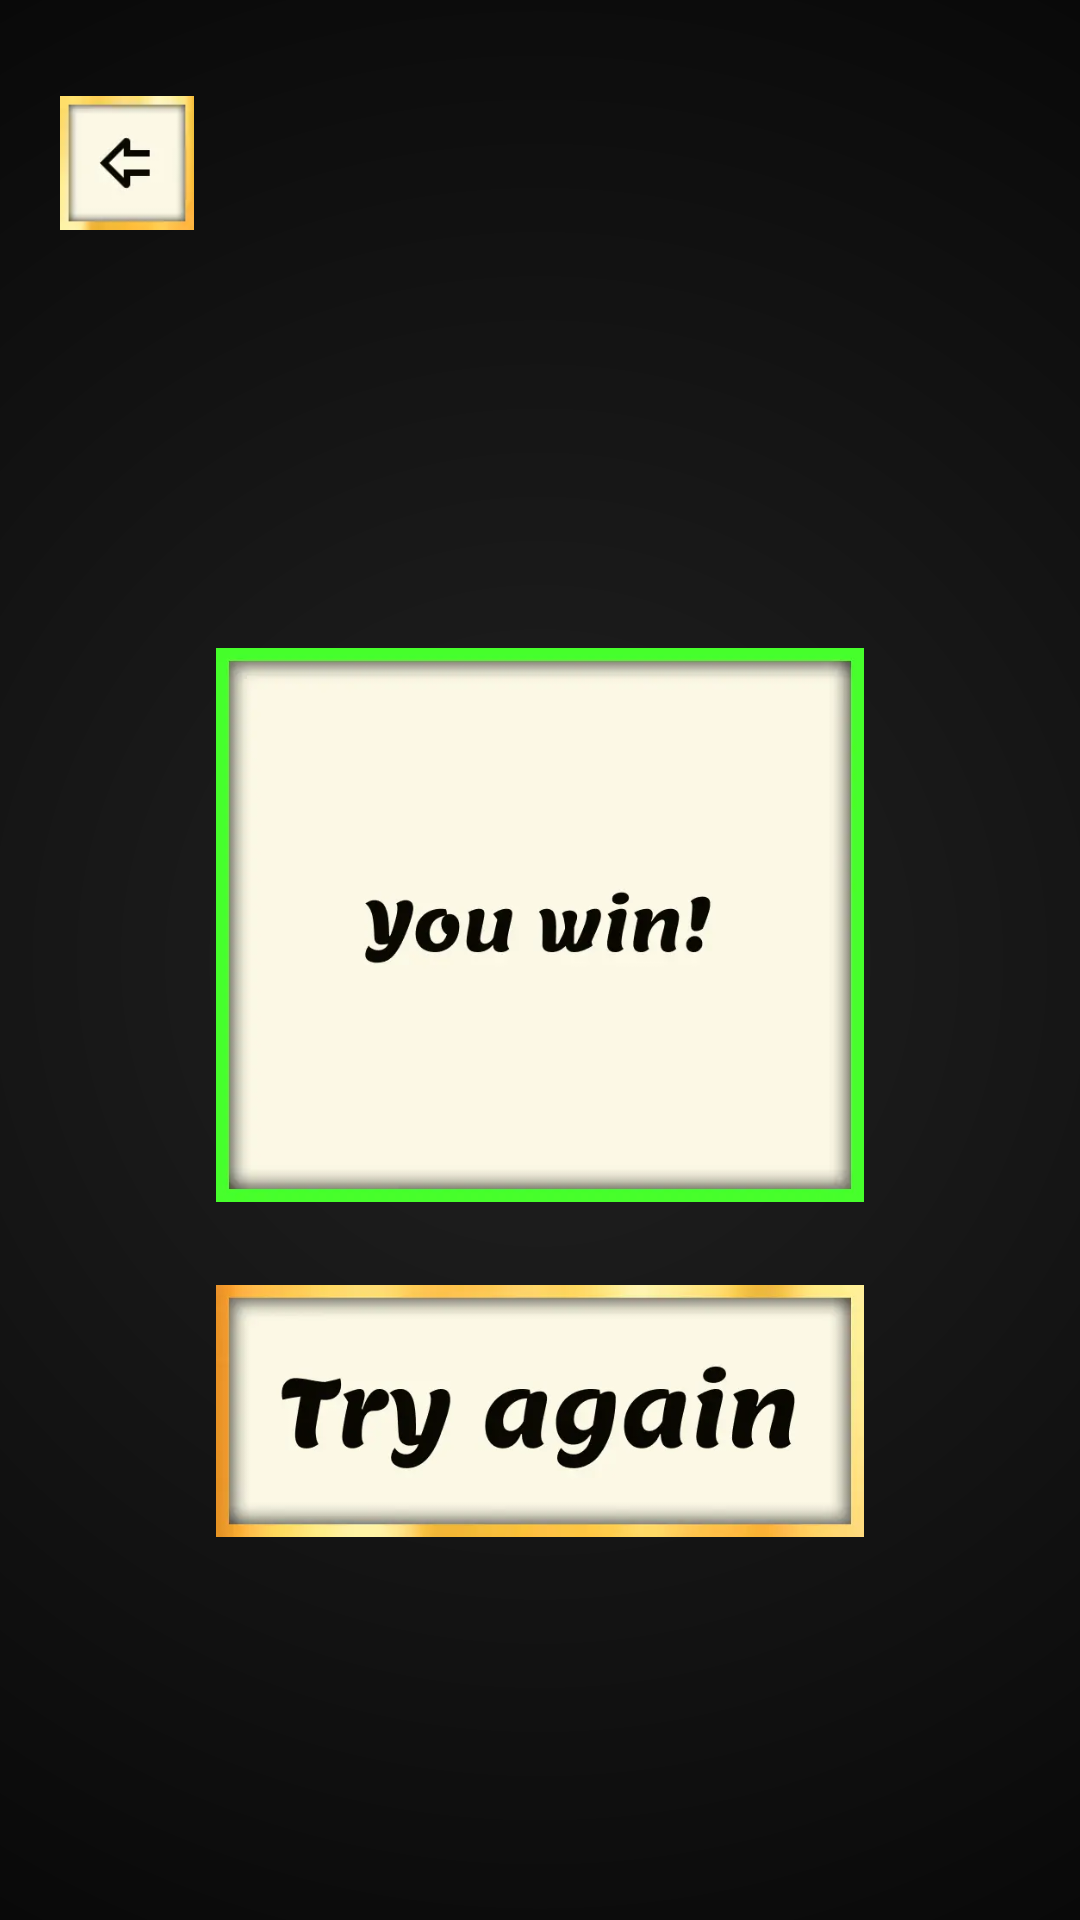

Named icons in this screenshot (1080 x 1920) and their bounding boxes, (x1, y1, x2, y2):
back: (60, 96, 194, 230)
